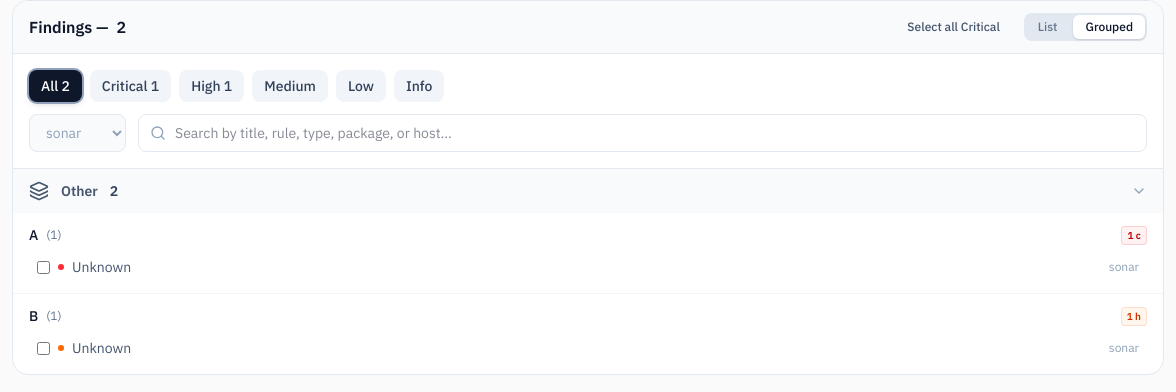
Test: changing a filter that hides a selected finding prunes it from the selection
Click the button "Select all Critical" at (954, 27), box 895,15 -> 1012,39
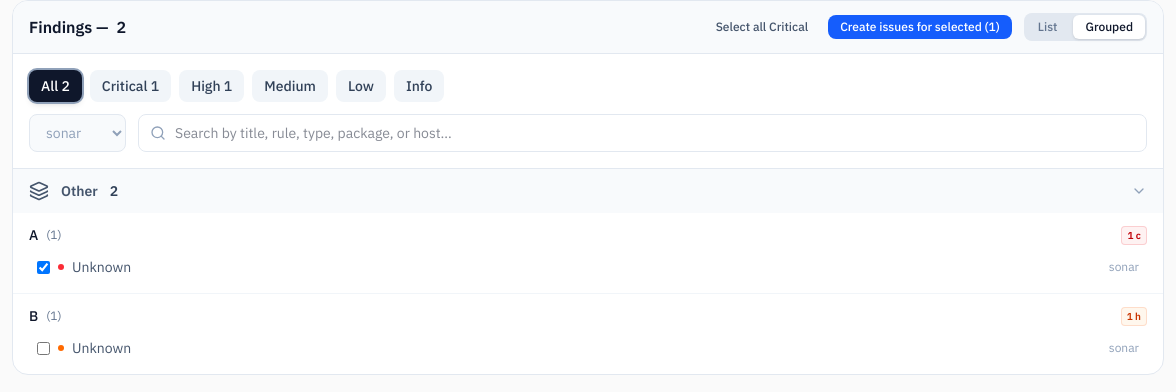
Expected: the button "Create issues for selected (1)" is shown, 828,15 -> 1012,39
Click the button "High 1" at (212, 86), box 179,70 -> 244,102
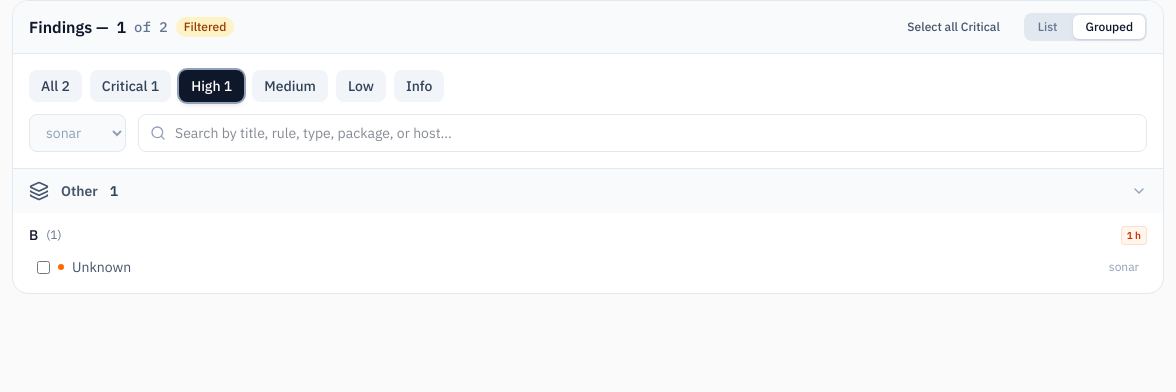
Expected: the button "Create issues for selected" is gone
